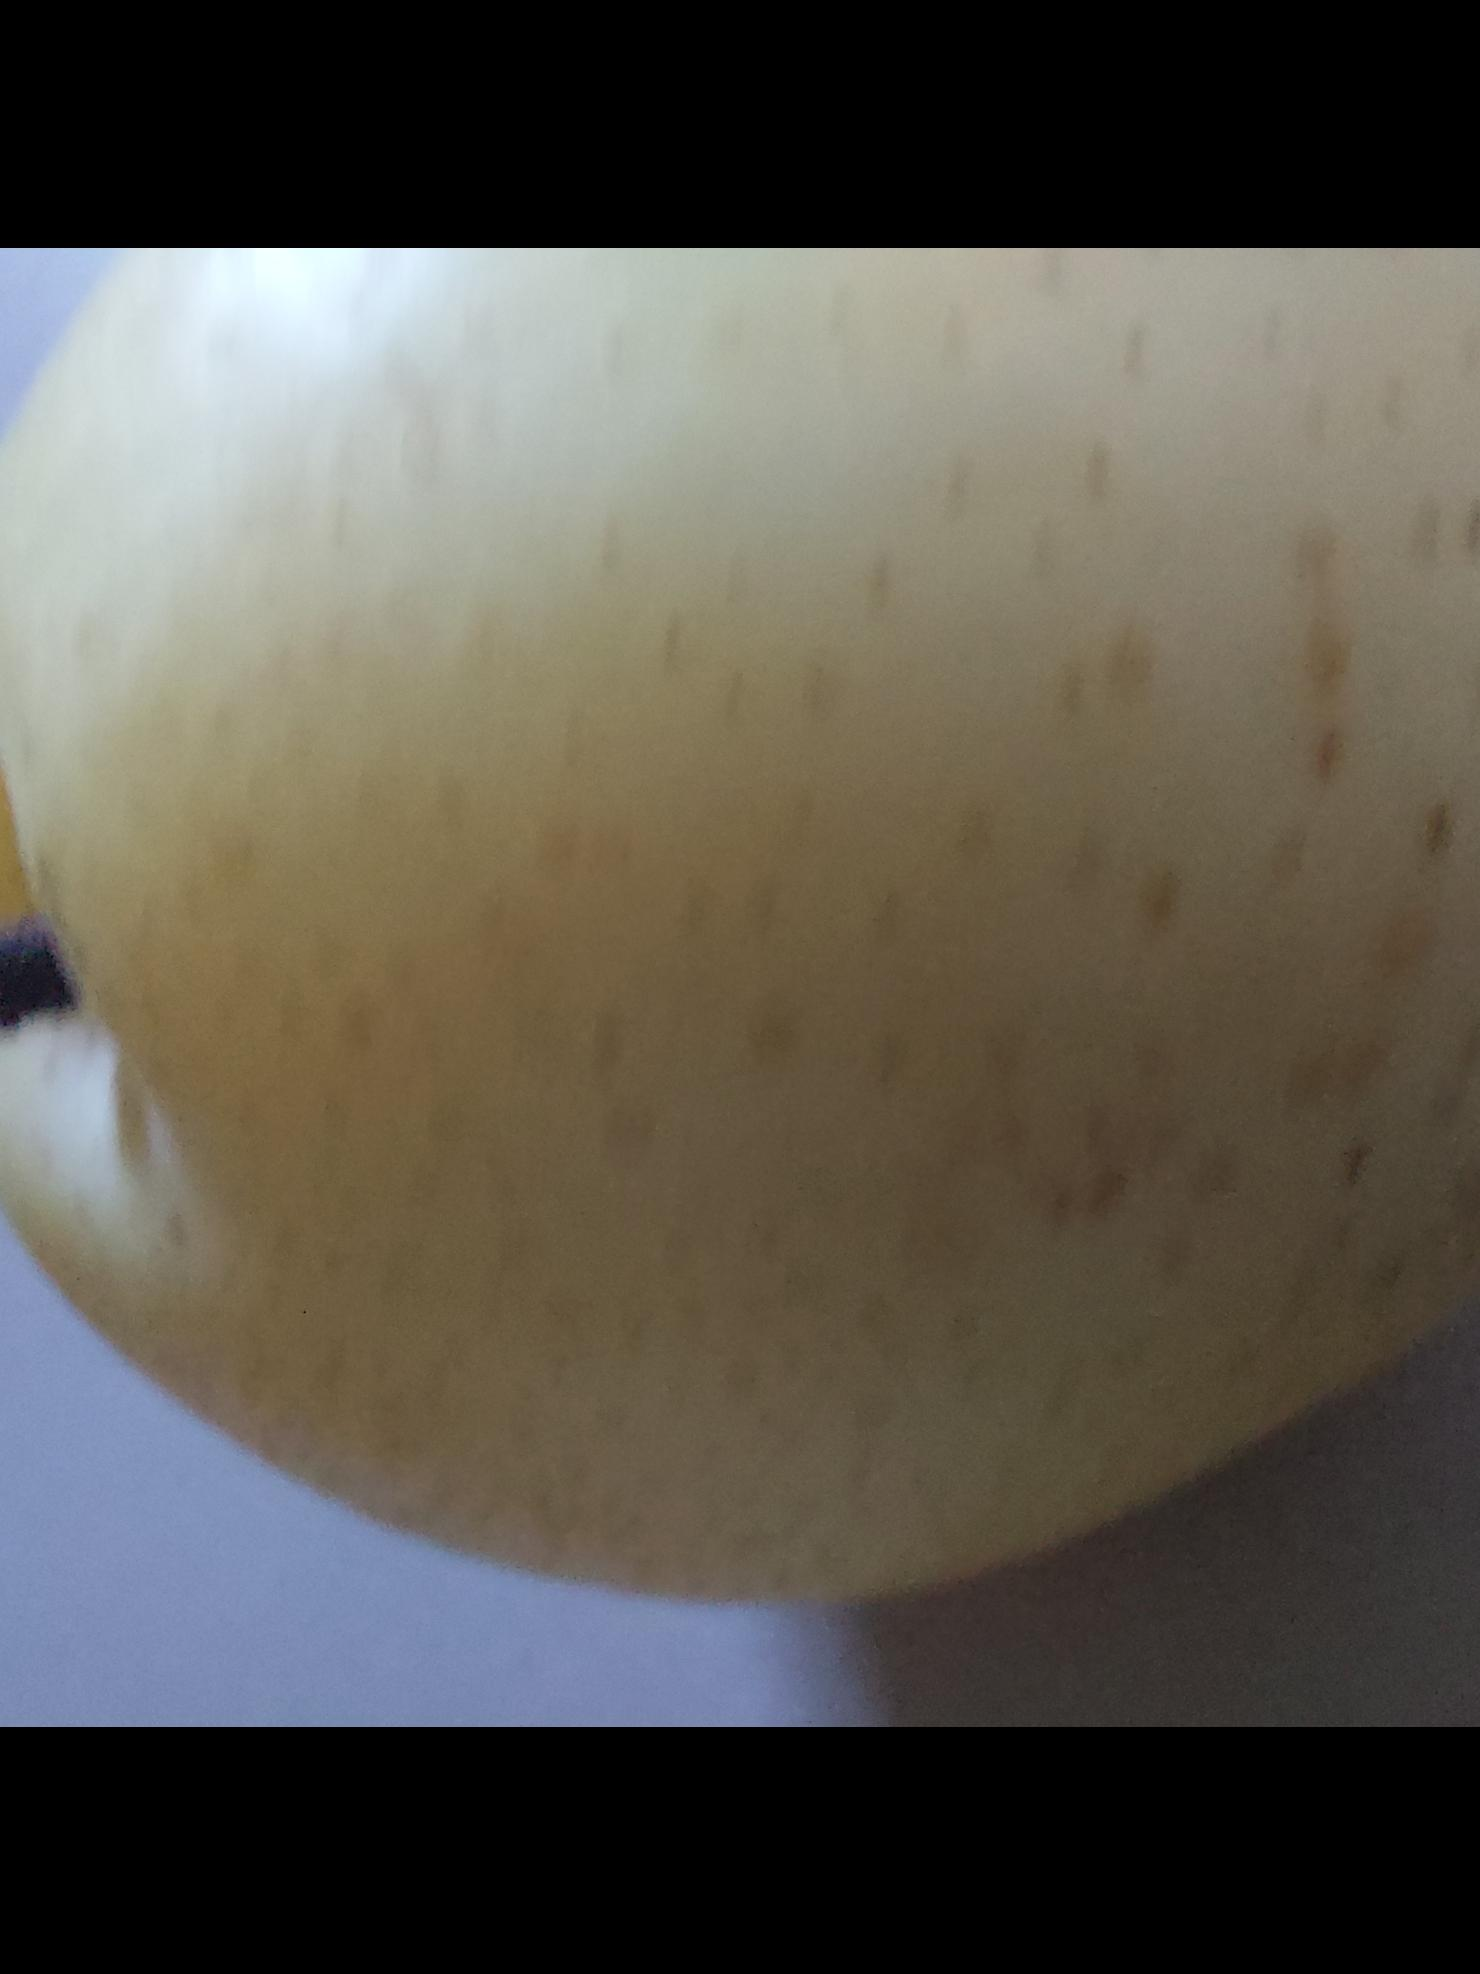Good Pear: (0, 247, 1480, 1682)
